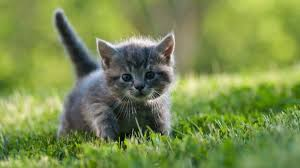cat: (96, 37, 172, 102)
